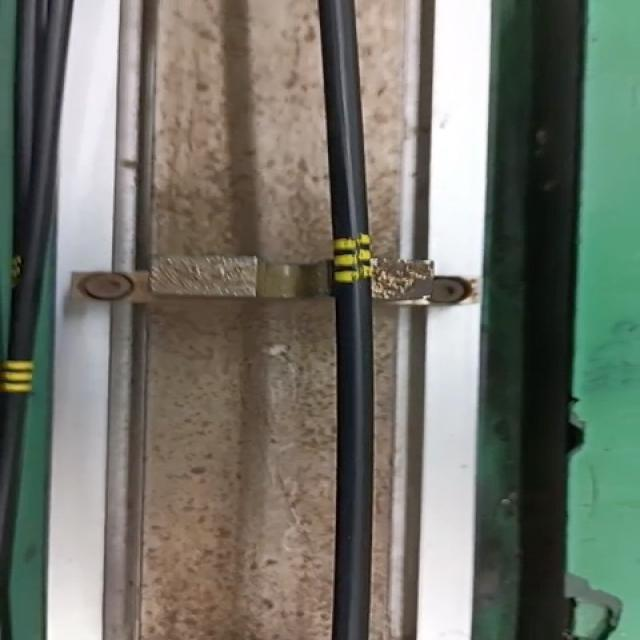yellow: (329, 236, 376, 285), (3, 360, 31, 391)
